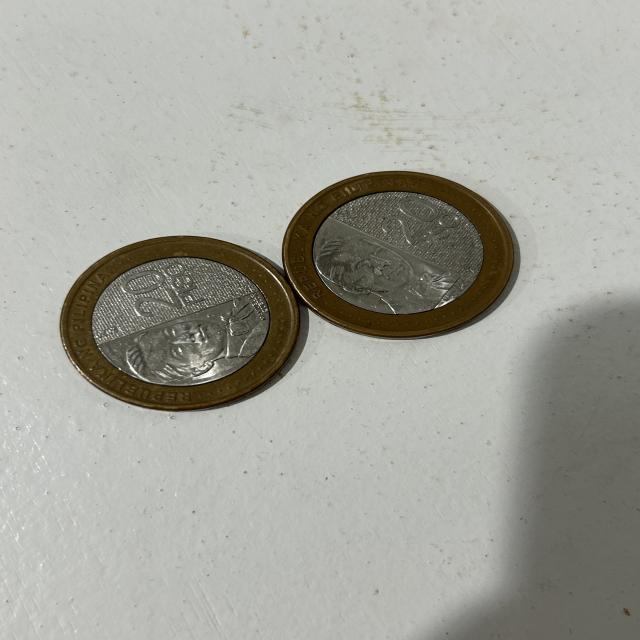20_New_Front: (375, 193, 466, 252), (115, 265, 214, 312)
